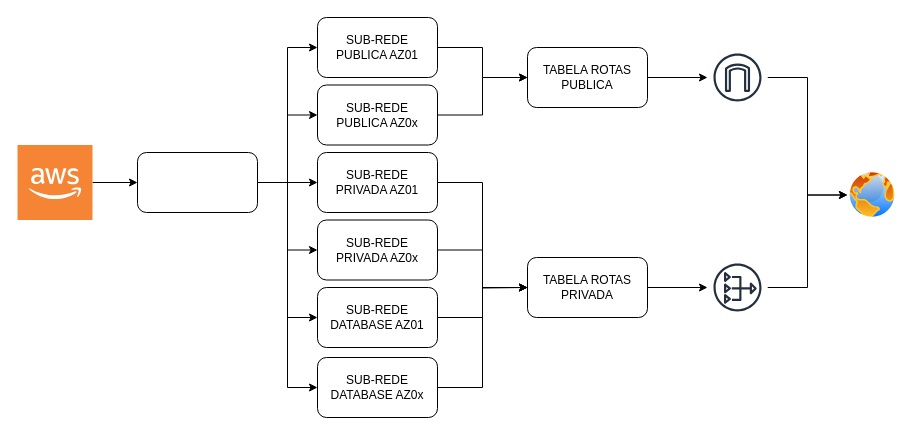
Some shapes in this 915 by 435 pixel diagram are drawn without their labels. The box of each missing label's shape, as (x1, y1, x2, y2) in pixels:
BLOCO 192.168.0.0/16: (136, 152, 258, 212)
Internet gateway: (706, 46, 768, 108)
NAT gateway: (706, 256, 768, 318)
